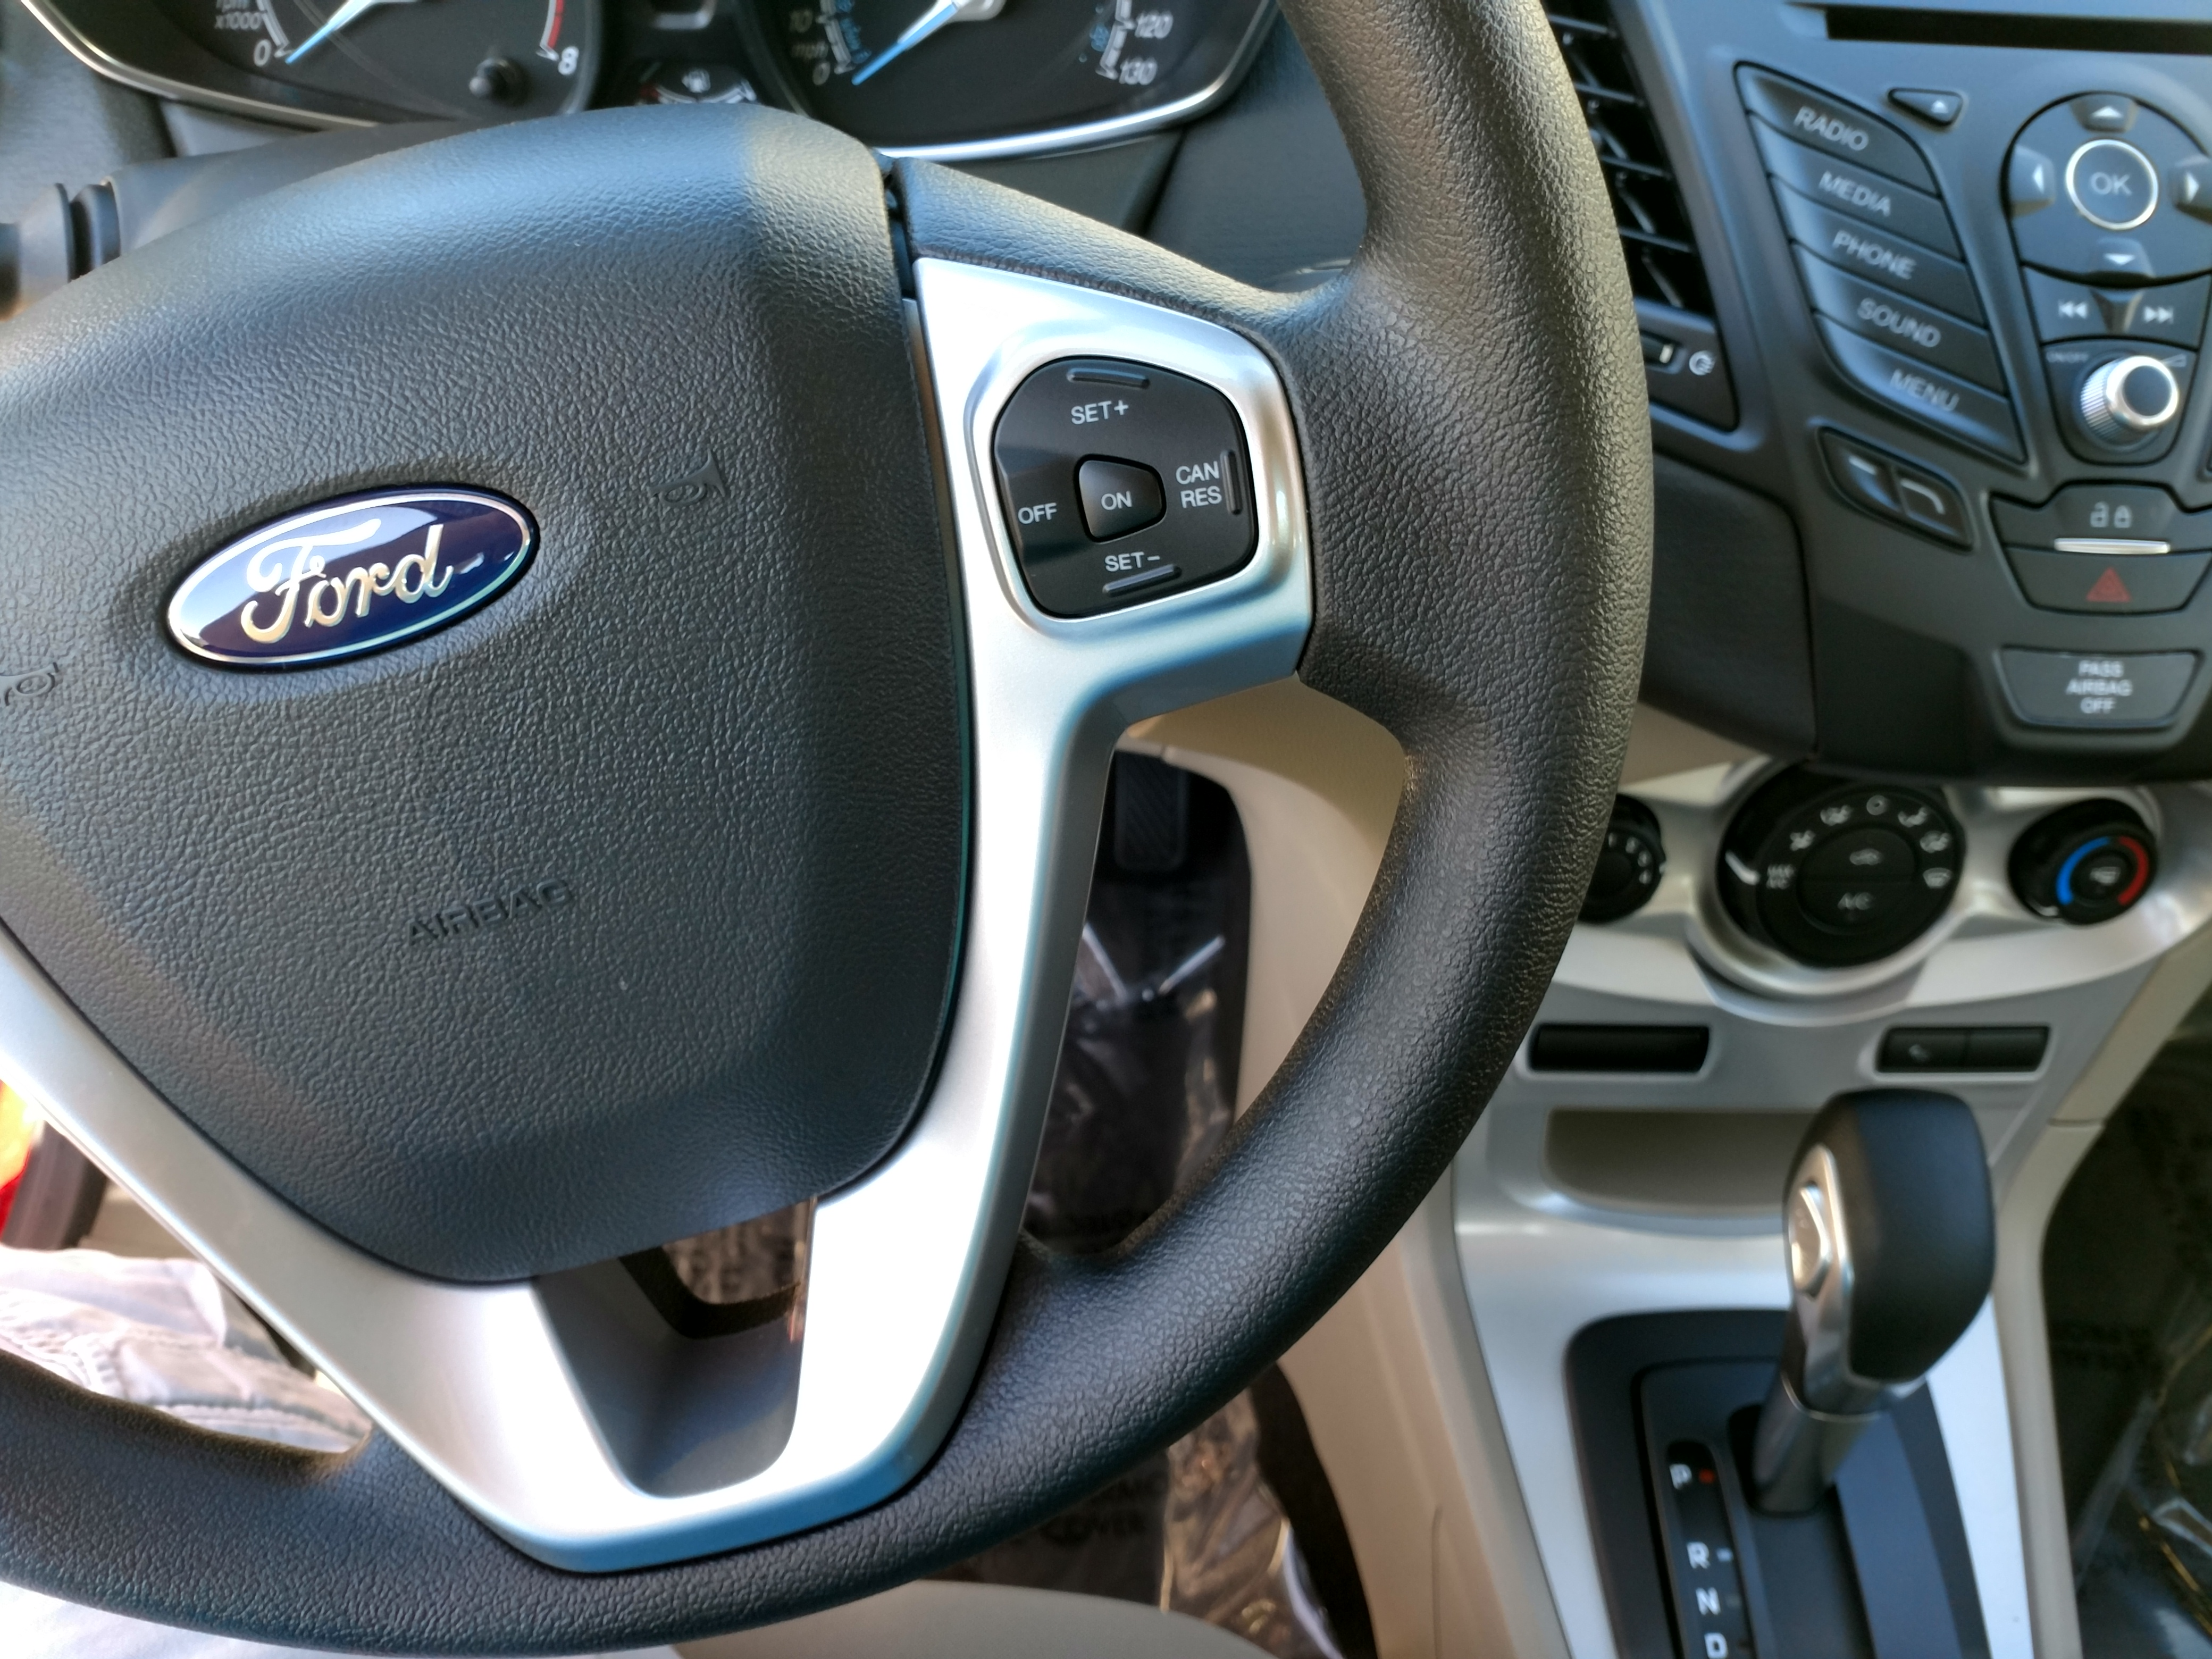Ford: (148, 469, 550, 685)
